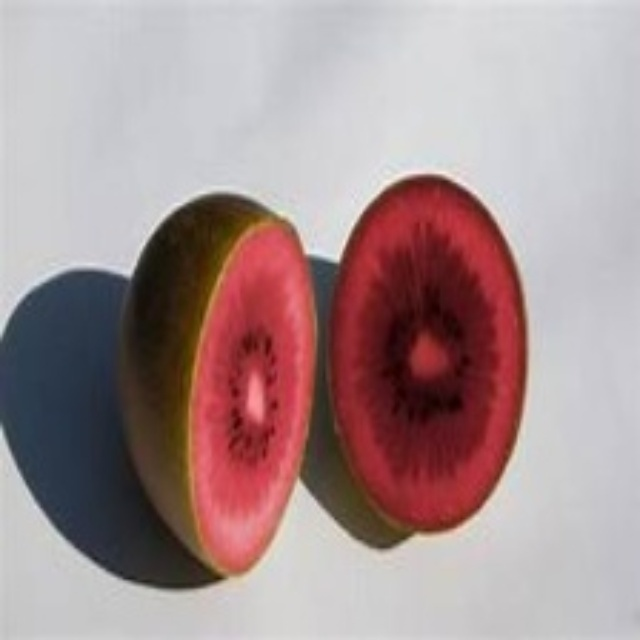kiwi: (109, 187, 317, 577), (327, 164, 527, 539)
